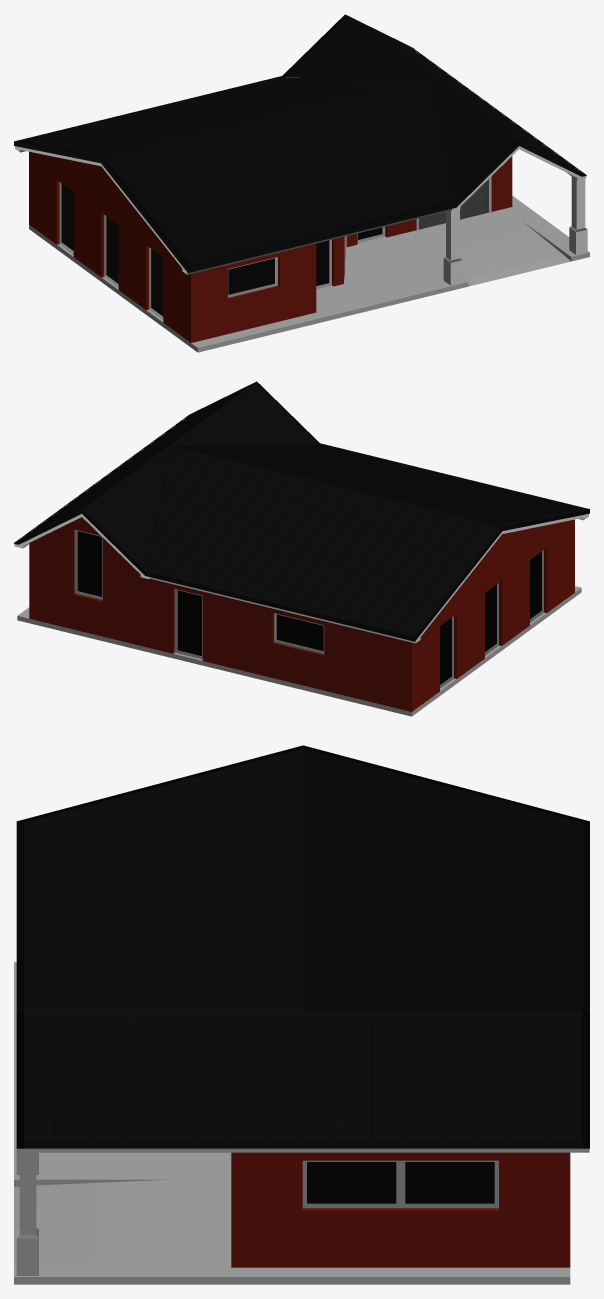
The model's file is house_a.FBX.
3 renders of one model, top to bottom at view 1: azimuth 30°, elevation 25°; view 2: azimuth 150°, elevation 25°; view 3: azimuth 270°, elevation 25°, orthographic. The views are drawn at different scales.
Parts seen in each view (by area): view 1: Roof002, Walls, Ceiling, Glass009, Window009; view 2: Roof002, Walls, Glass009, Ceiling, Window009; view 3: Roof002, Ceiling, Walls, Glass009, Window009.
Boxes of the visible parts, x1=… form: Roof002: x1=14, y1=14, x2=586, y2=272; Walls: x1=29, y1=151, x2=512, y2=342; Ceiling: x1=15, y1=77, x2=589, y2=352; Glass009: x1=61, y1=183, x2=382, y2=316; Window009: x1=59, y1=176, x2=491, y2=319; Roof002: x1=14, y1=381, x2=589, y2=641; Walls: x1=29, y1=517, x2=574, y2=711; Glass009: x1=77, y1=531, x2=541, y2=684; Ceiling: x1=14, y1=514, x2=588, y2=716; Window009: x1=74, y1=529, x2=543, y2=688; Roof002: x1=16, y1=745, x2=589, y2=1148; Ceiling: x1=14, y1=962, x2=589, y2=1284; Walls: x1=231, y1=1152, x2=570, y2=1267; Glass009: x1=307, y1=1162, x2=494, y2=1203; Window009: x1=230, y1=1152, x2=498, y2=1250.
Size of the model in its own units: 13688 by 4297 by 10335.
